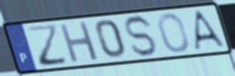0: (94, 19, 128, 60)
A: (193, 9, 229, 52)
H: (58, 20, 101, 65)
O: (157, 11, 191, 54)
S: (124, 14, 159, 59)
Z: (25, 22, 71, 68)
